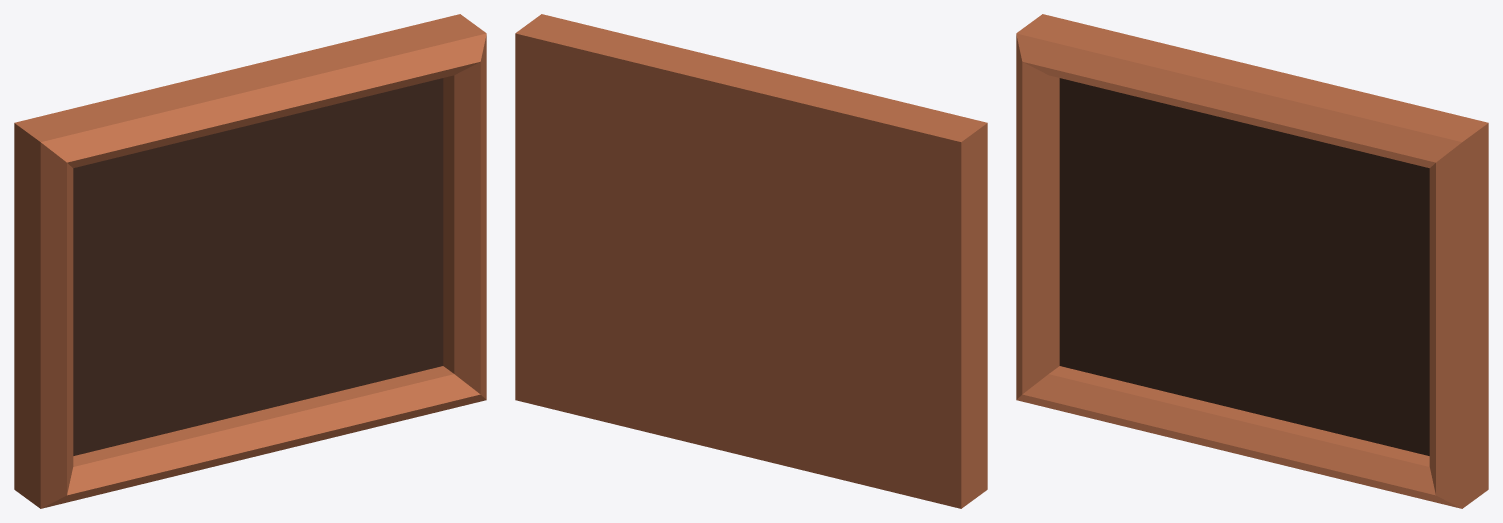
The model's file is Dest_Hall_Picture.FBX.
3 views of the same model, side by side, from view 1: azimuth 30°, elevation 25°; view 2: azimuth 150°, elevation 25°; view 3: azimuth 330°, elevation 25° (orthographic).
Parts seen in each view (by area): view 1: Box001; view 2: Box001; view 3: Box001.
Part boxes in pixels (x1,y1,x2,y2): Box001: [14, 14, 486, 508]; Box001: [515, 14, 987, 508]; Box001: [1016, 14, 1488, 508].
Size of the model in its own units: 22.39 by 17.59 by 3.18.
